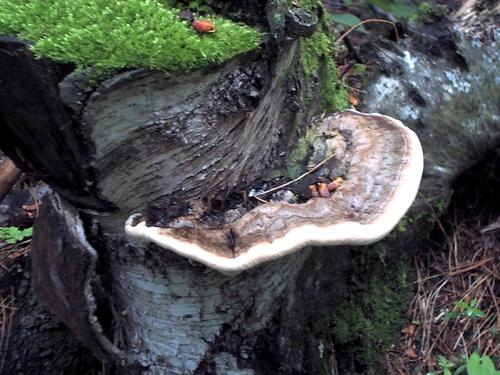Ganoderma - Fruit Body: (122, 105, 424, 272)
